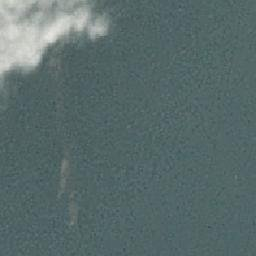cloud: (1, 1, 110, 76)
